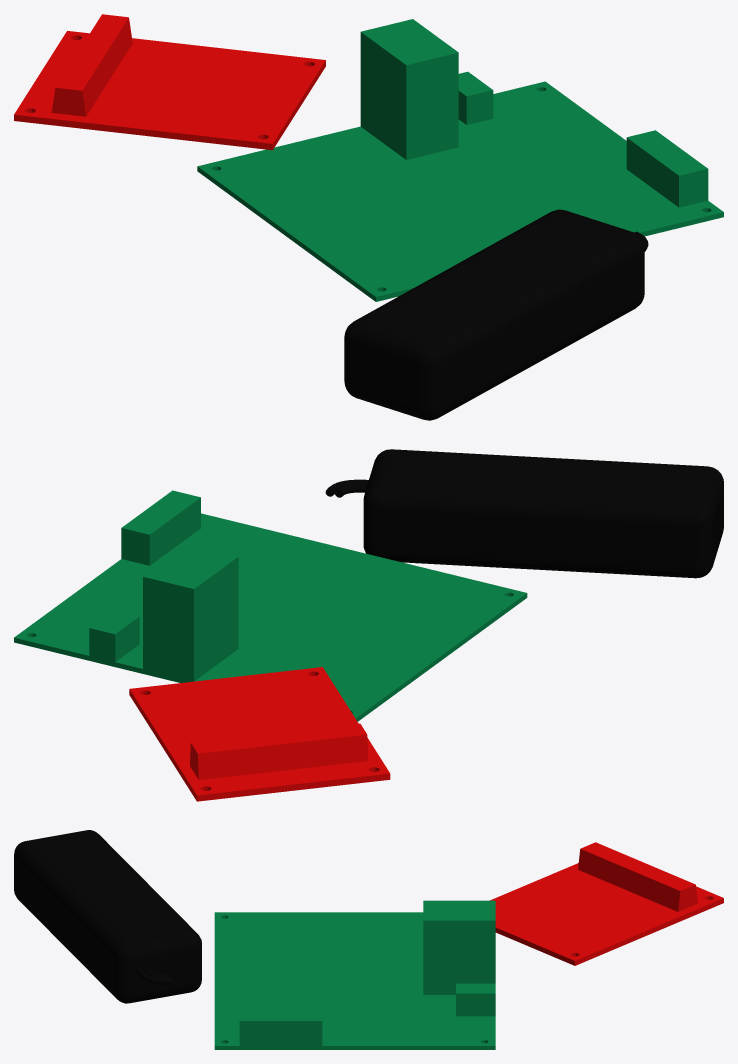
Rendered from botmovil_components_link.dae.
The picture shows the model from 3 angles, top to bottom: view 1: azimuth 30°, elevation 25°; view 2: azimuth 150°, elevation 25°; view 3: azimuth 270°, elevation 25°; orthographic projection. The views are drawn at different scales.
Parts seen in each view (by area): view 1: _2_Pandaboard, _4_Battery, _3_Roboclaw; view 2: _2_Pandaboard, _4_Battery, _3_Roboclaw; view 3: _2_Pandaboard, _4_Battery, _3_Roboclaw.
Part boxes in pixels (left/top/right/bottom): _2_Pandaboard: left=197, top=19, right=723, bottom=301; _4_Battery: left=344, top=209, right=648, bottom=420; _3_Roboclaw: left=14, top=14, right=325, bottom=150; _2_Pandaboard: left=14, top=490, right=527, bottom=721; _4_Battery: left=325, top=449, right=723, bottom=578; _3_Roboclaw: left=129, top=667, right=390, bottom=801; _2_Pandaboard: left=214, top=900, right=495, bottom=1049; _4_Battery: left=14, top=830, right=201, bottom=1003; _3_Roboclaw: left=490, top=842, right=723, bottom=965.
Size of the model in its own units: 0.1507 by 0.2568 by 0.0357.
